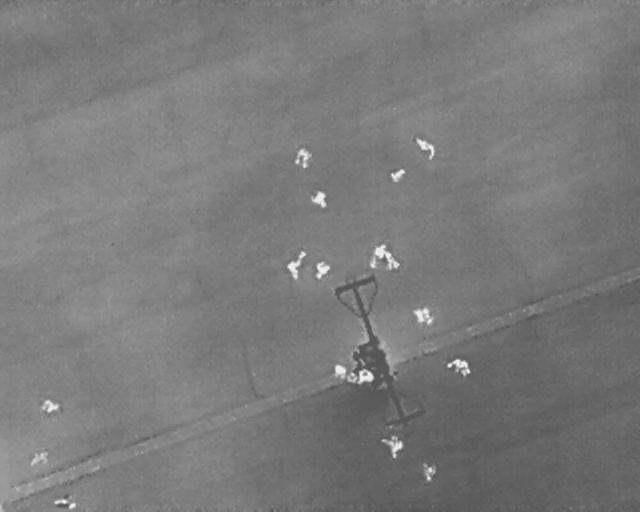Person: (283, 247, 311, 281), (411, 132, 439, 160), (366, 242, 388, 269), (379, 435, 404, 458), (381, 250, 401, 272), (446, 359, 470, 377), (386, 165, 408, 183), (413, 306, 433, 325), (295, 147, 311, 169), (311, 188, 326, 209), (53, 497, 79, 508), (315, 261, 330, 279), (422, 463, 437, 481), (358, 368, 373, 385), (41, 400, 59, 414), (334, 364, 345, 380)
